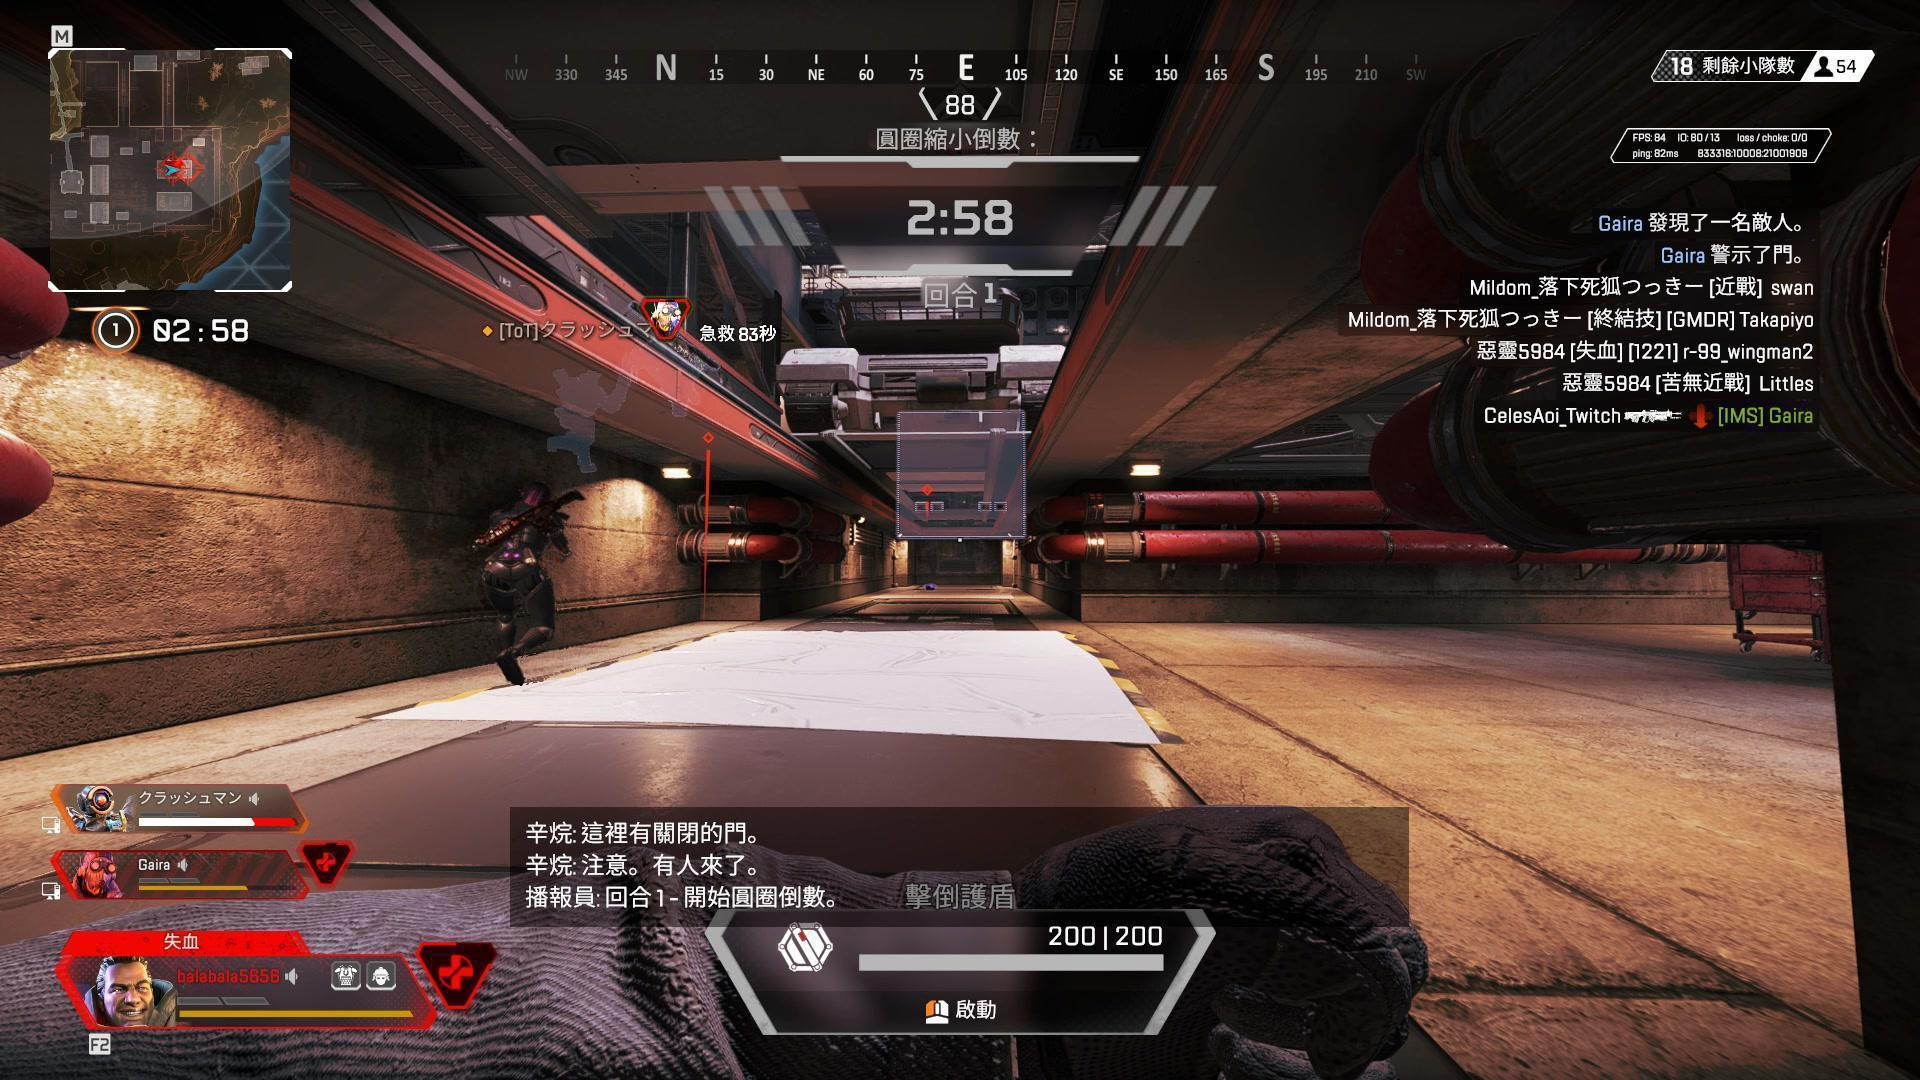avatar: (476, 475, 569, 689)
